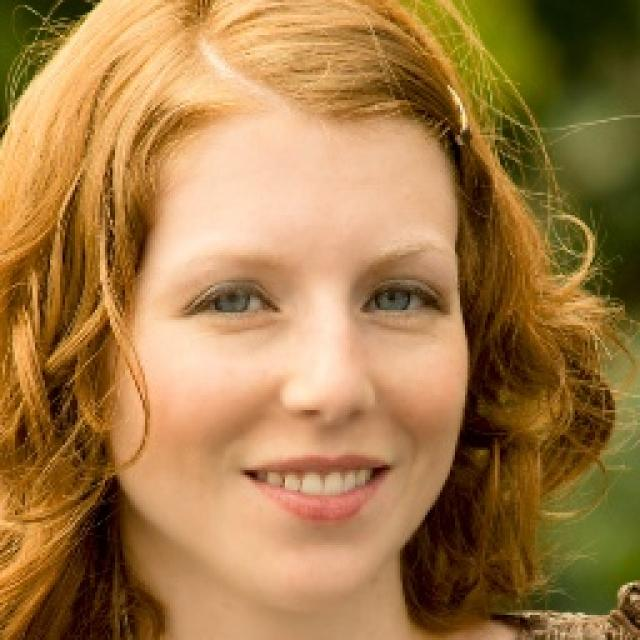eye: (194, 286, 275, 316), (363, 282, 435, 314)
nose: (277, 393, 386, 468)
